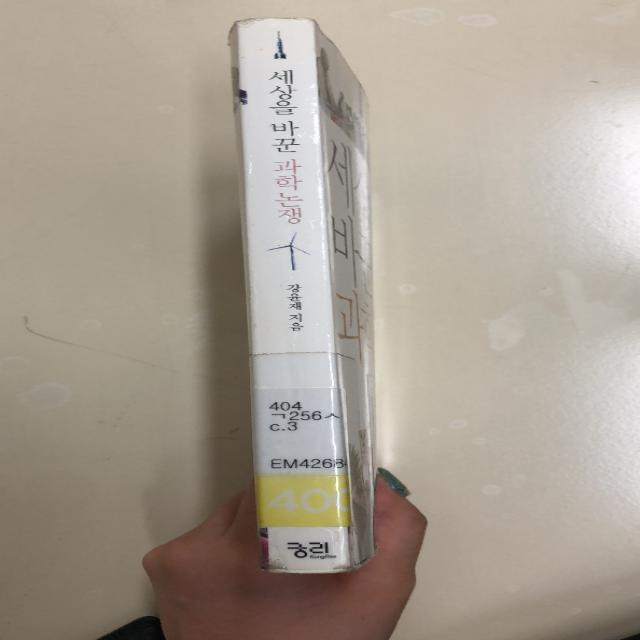Wornout: (226, 8, 322, 31), (259, 568, 358, 579)
